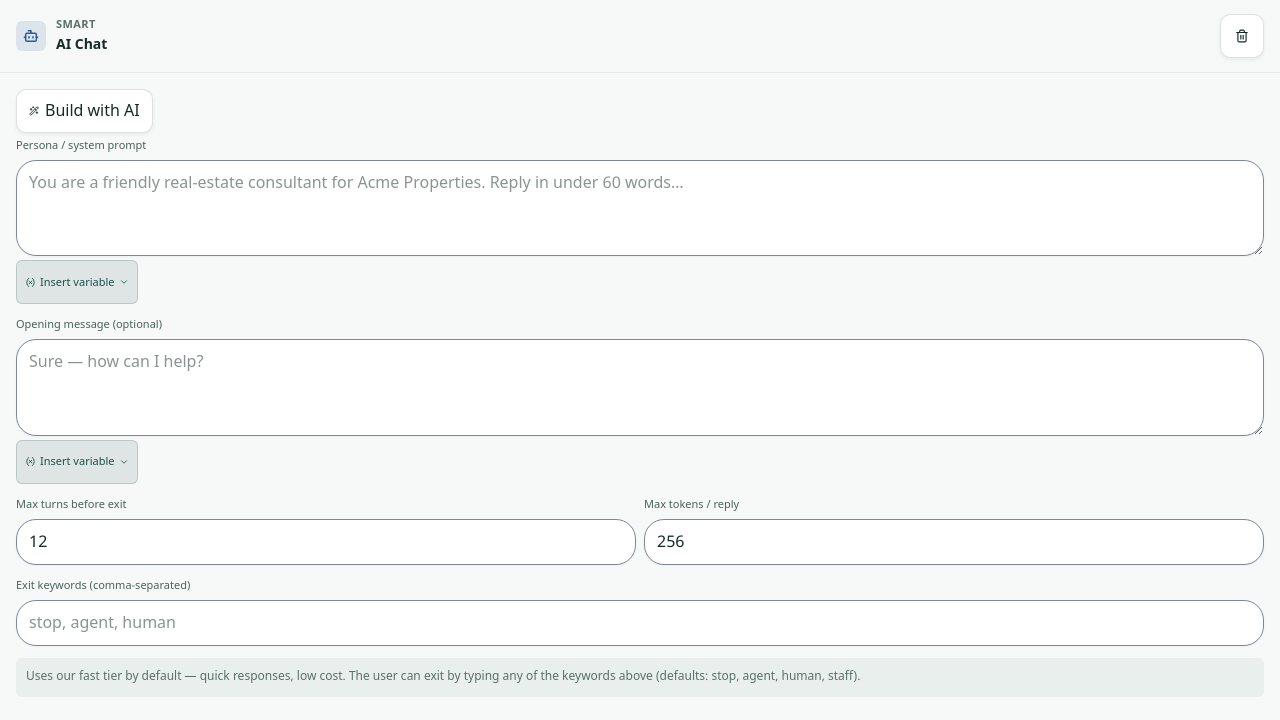
Test: persona failure keeps inputs and surfaces a safe focused error
Click the button "Build with AI" at (84,111), box x1=16 y1=89 x2=153 y2=133
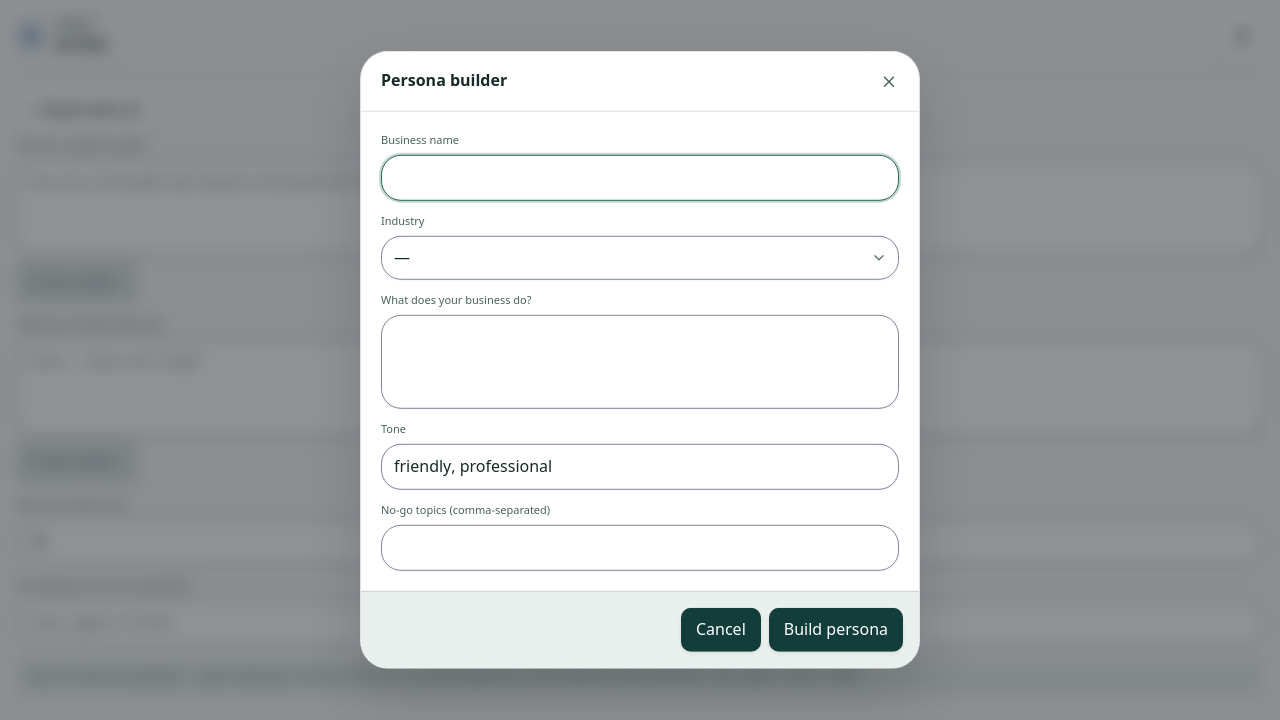
Type "Keep input" into the field labelled "Business name" at (640,178), box x1=382 y1=156 x2=898 y2=200
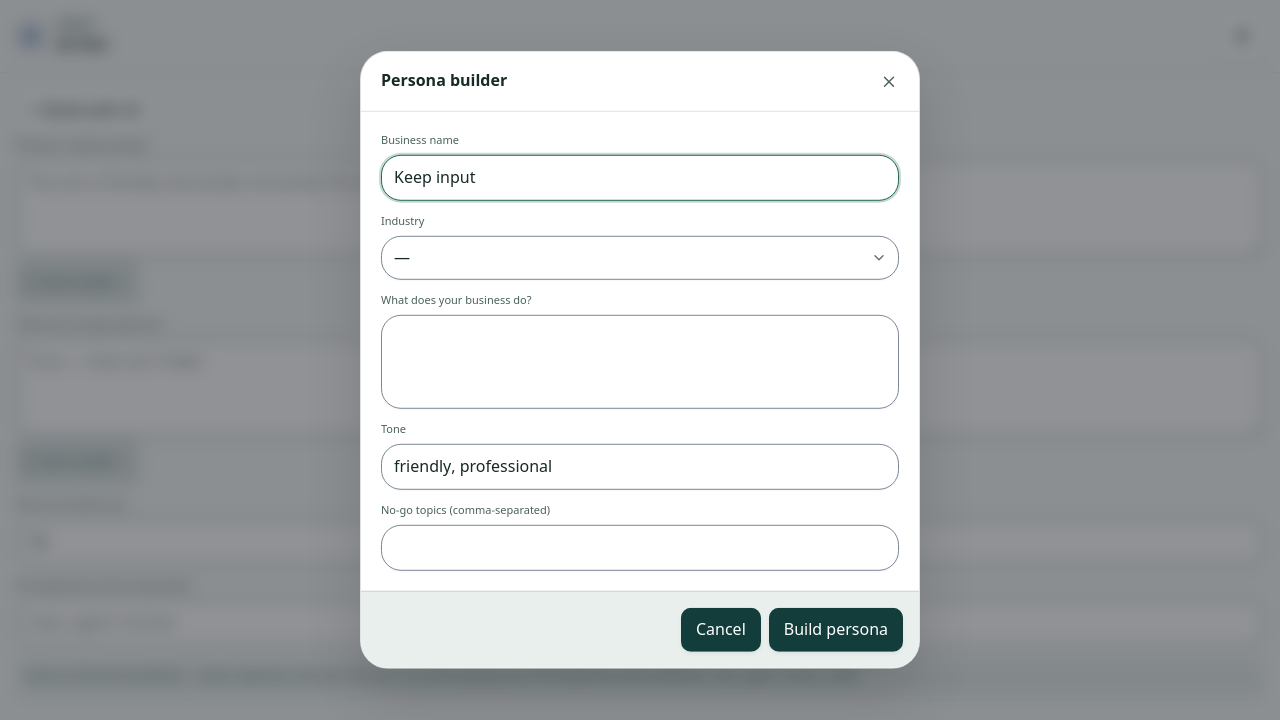
Click the button "Build persona" at (836,630), box x1=769 y1=608 x2=903 y2=652
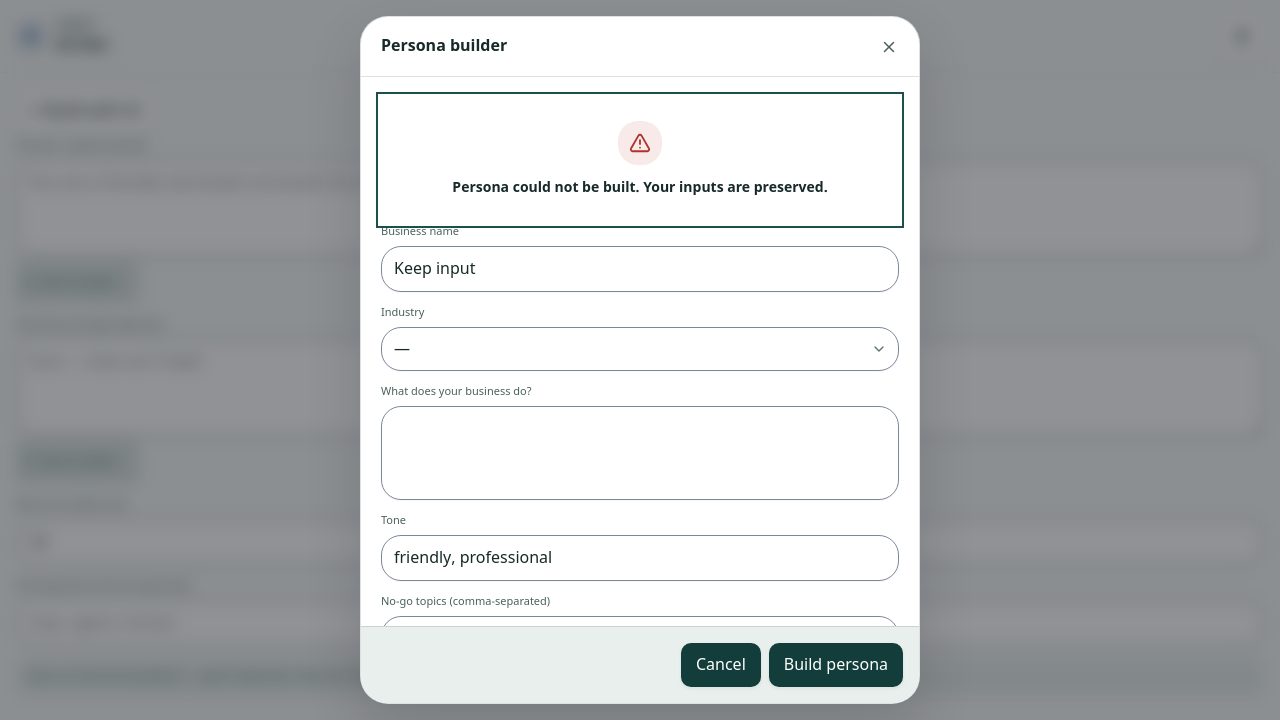
Check: the text "Persona could not be built. Your inputs are preserved." is shown, box x1=452 y1=177 x2=828 y2=199
